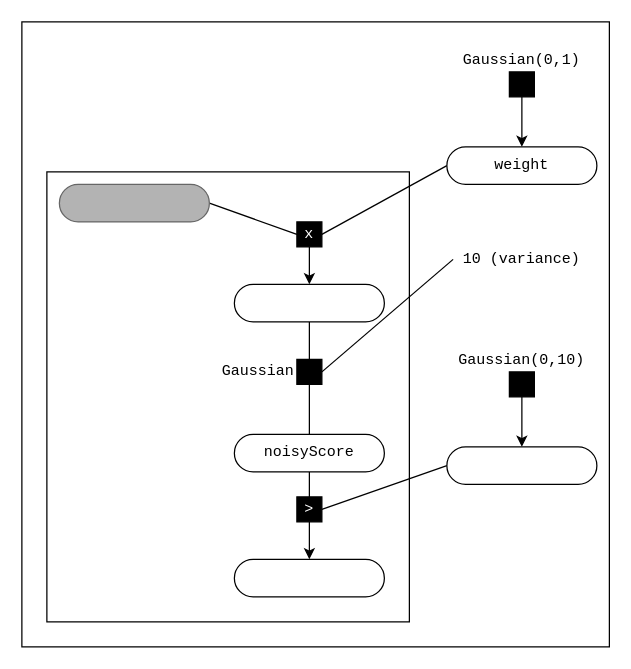
Image size: 631x669. Some labels were removed from this diagram. Here are the shapes that lost their labels. From the top down, the centre of each, then its label:
[133,202]: Sepal Length
[308,302]: score
[521,465]: threshold
[308,577]: isSetosa
